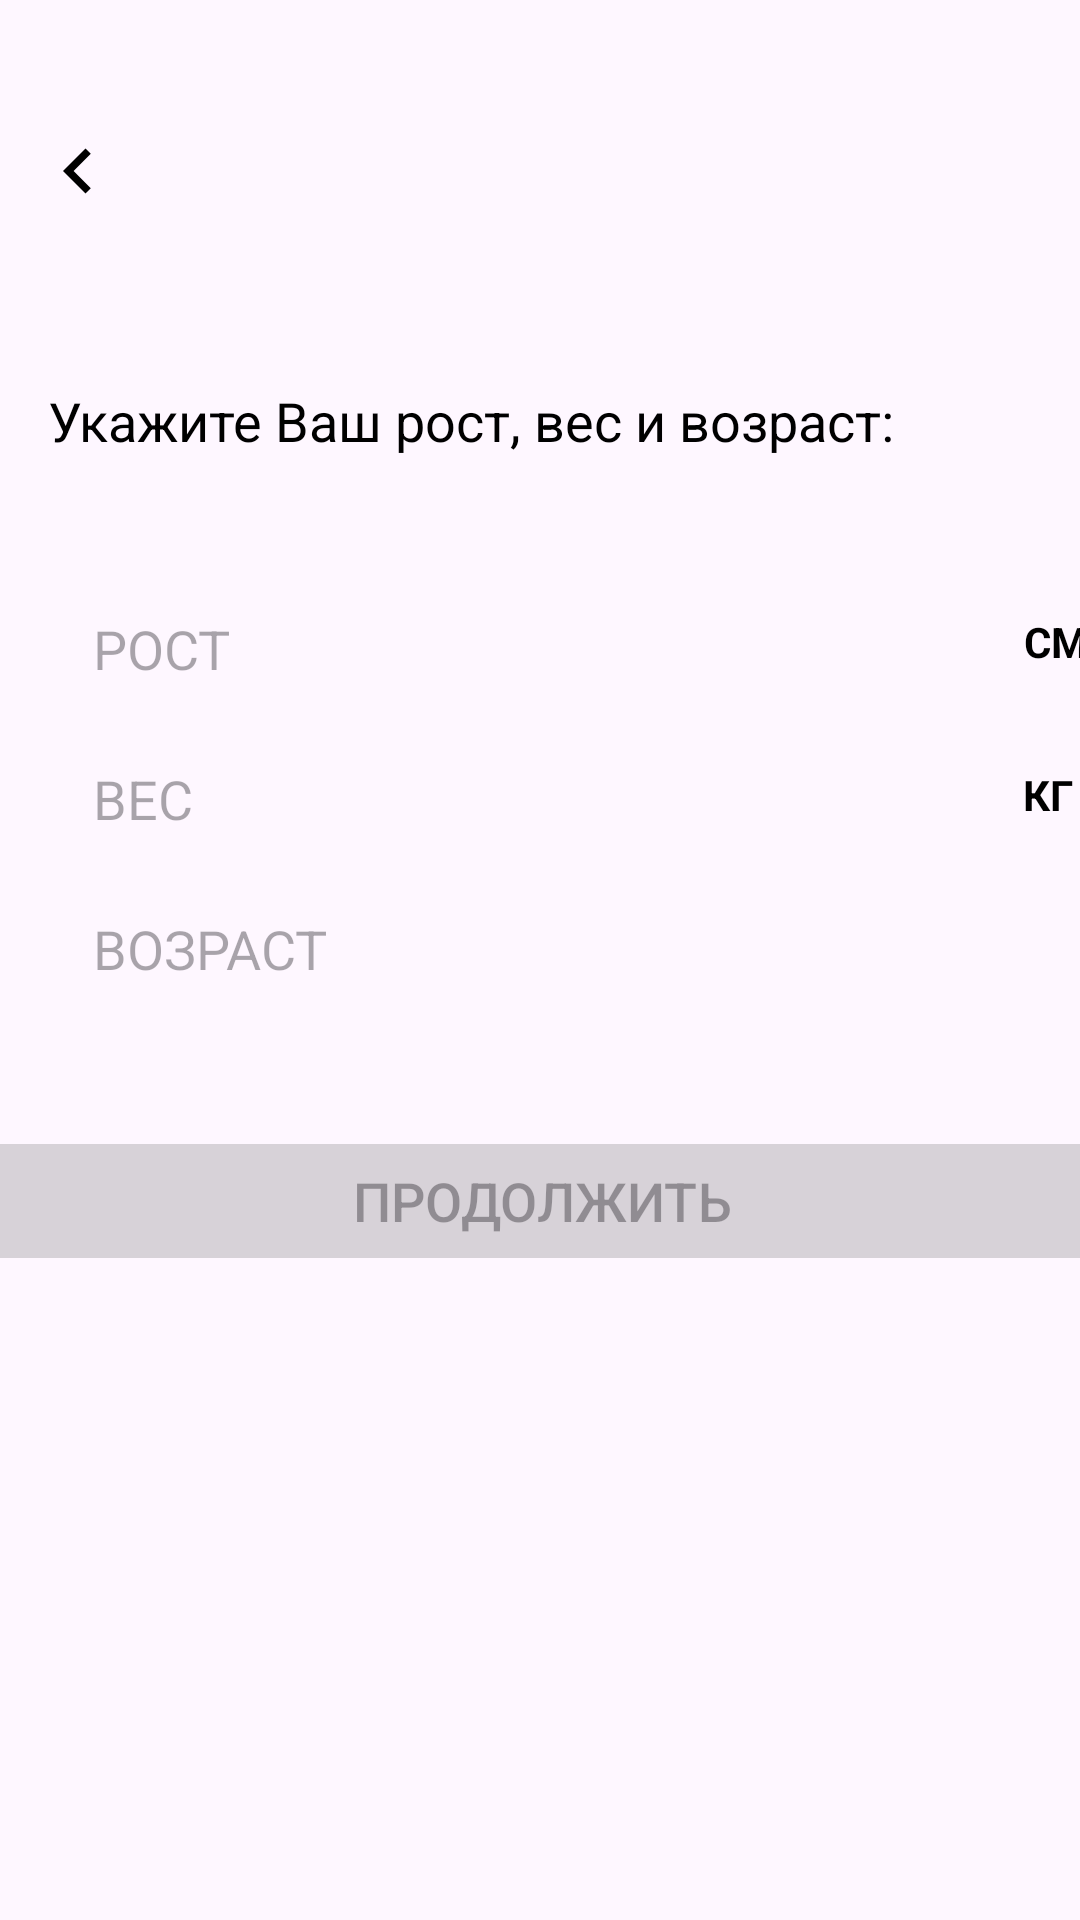

Screen size 1080x1920. Icon name, then its center in pixels as (x,y):
Нажмите, если хотите вернуться на предыдущий экран: (77,171)
